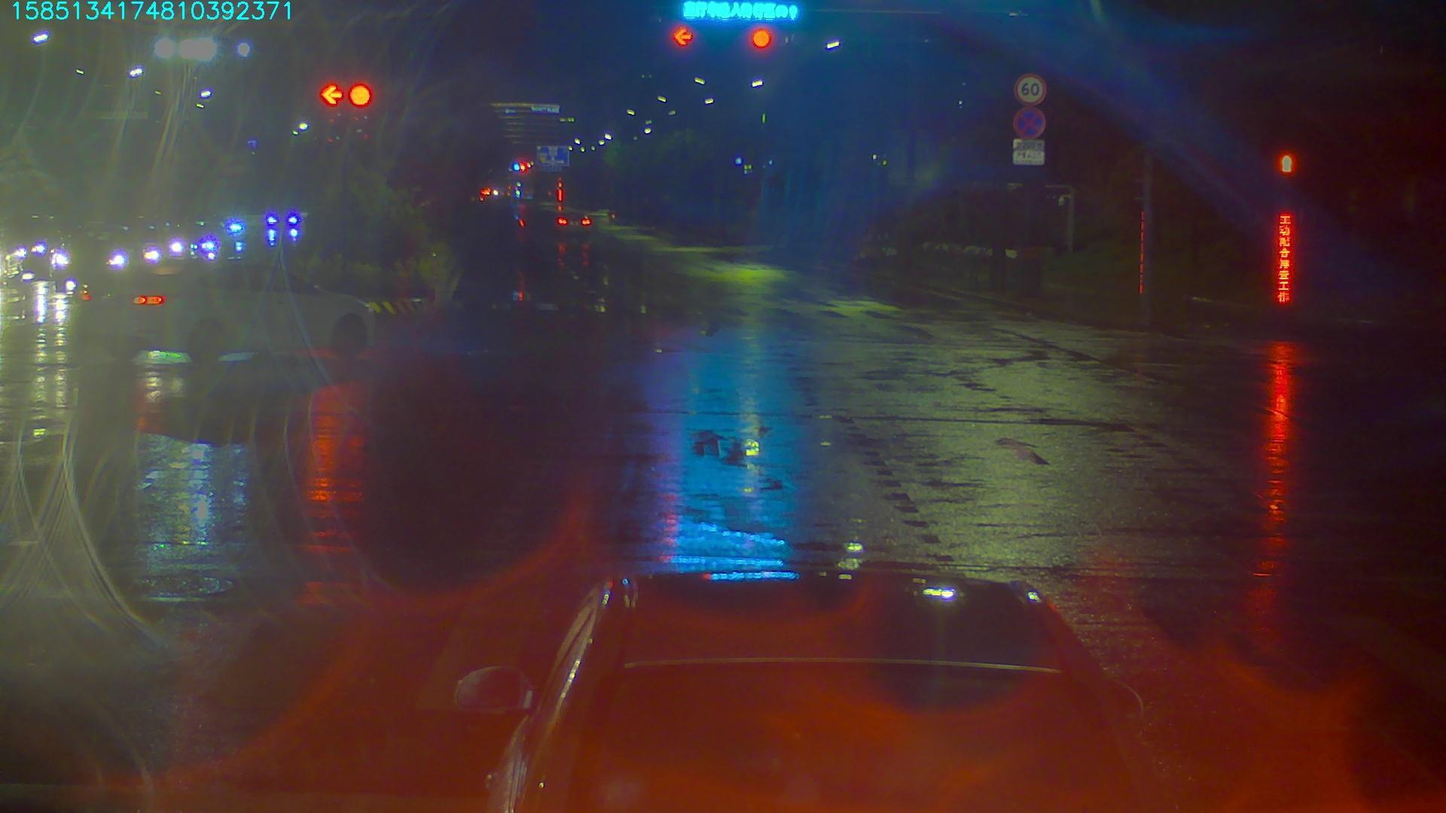red: (667, 20, 693, 45), (747, 27, 773, 50)
wait_on: (667, 0, 810, 18)
